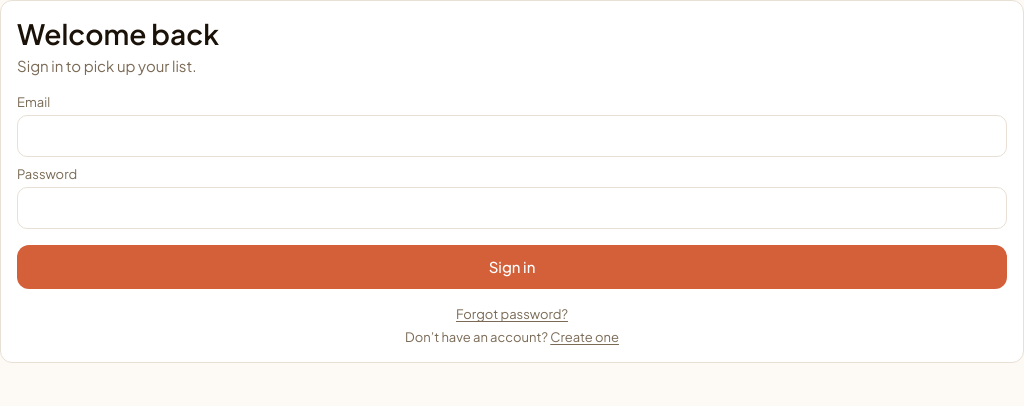
Test: <SignInPage> › network failure shows generic error
The width and height of the screenshot is (1024, 406).
In the field labelled "Email": (512, 136) [17,115,1007,157], type "alice@test.local"
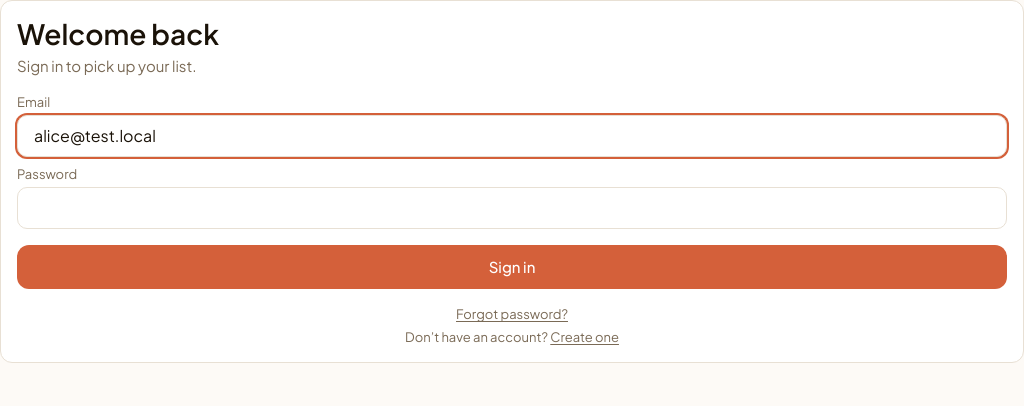
In the password field labelled "Password": (512, 208) [17,188,1007,230], type "Password123!"
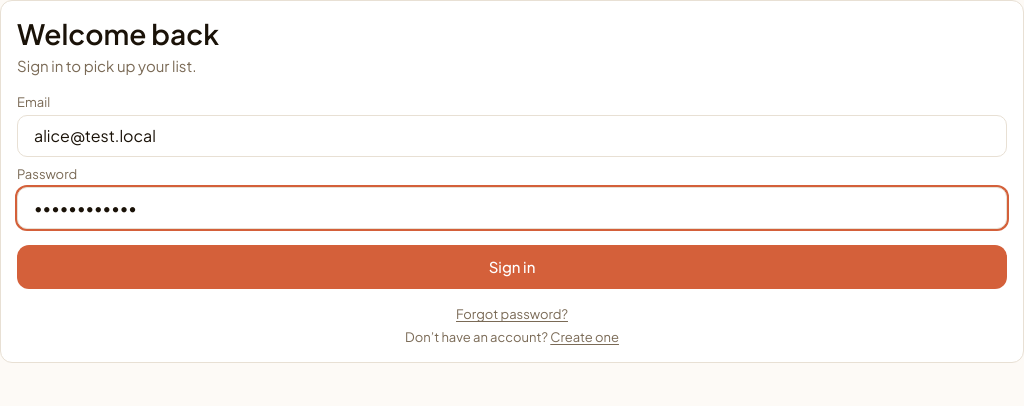
Click the button "Sign in": (512, 268) [17,246,1007,290]
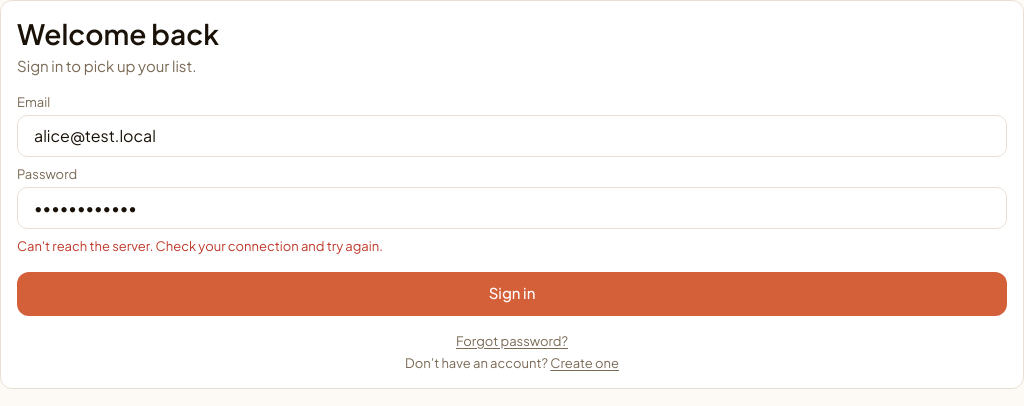
Expected: the message reads "Can't reach the server. Check your connection and try again.", [17,238,383,254]
